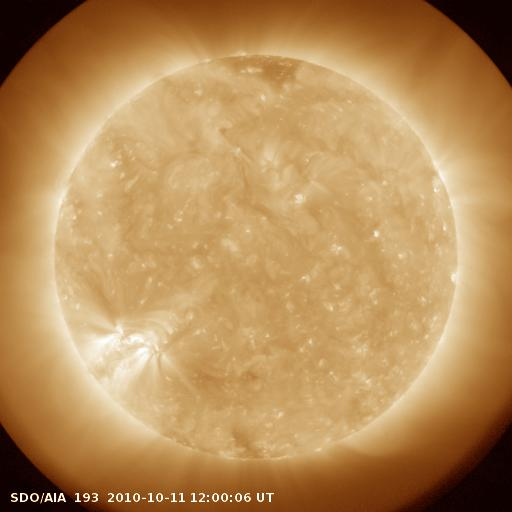coronal_hole: (214, 46, 300, 90)
